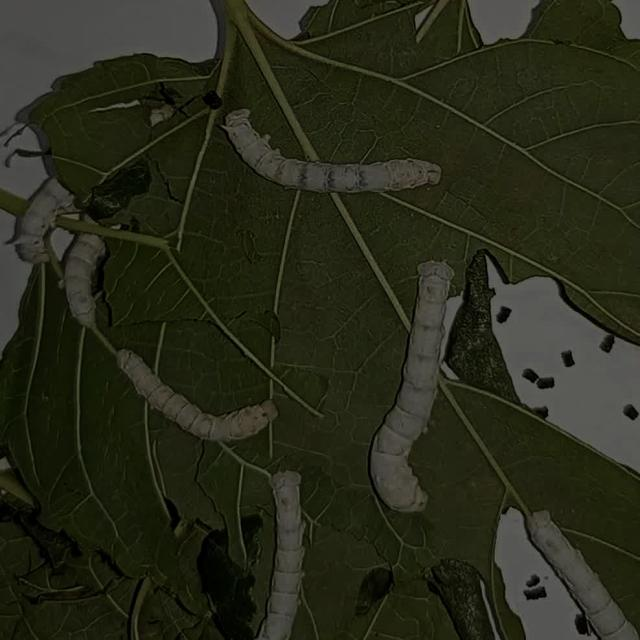Healthy: (207, 68, 453, 205), (363, 234, 473, 521), (2, 144, 141, 336), (100, 336, 286, 456), (243, 452, 350, 640), (515, 489, 640, 640)
